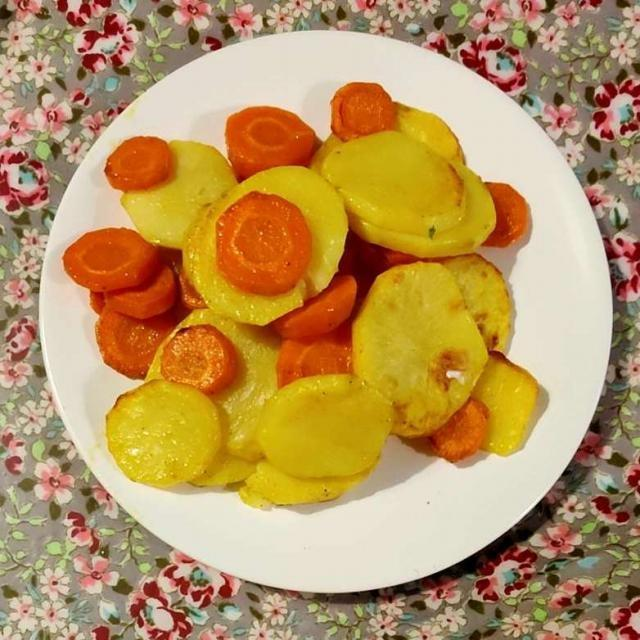carrots: (65, 86, 519, 457)
potatoes: (107, 98, 535, 506), (114, 109, 545, 507)
